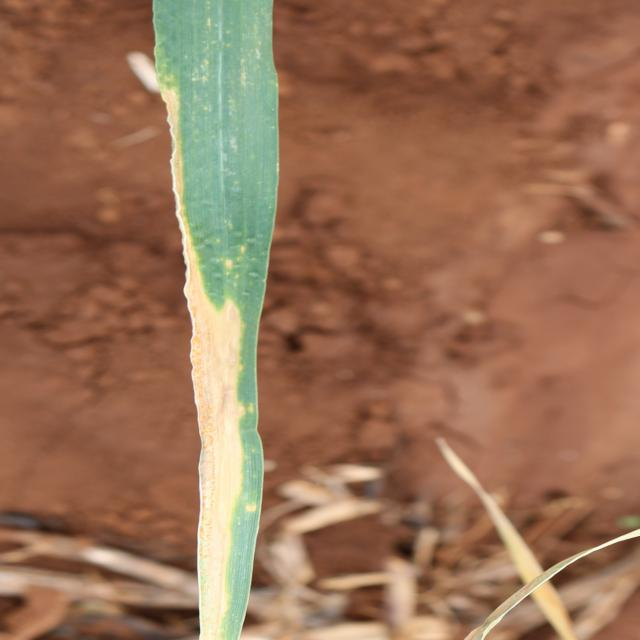Septoria: (150, 1, 281, 638)
